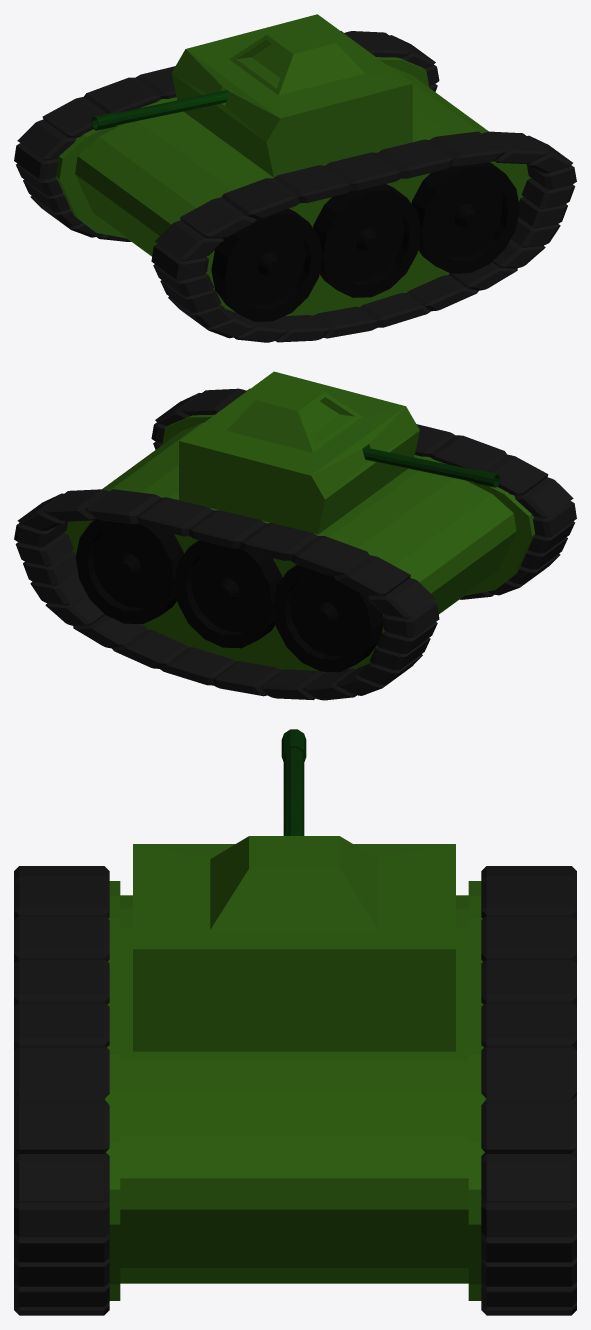
The model's file is tanque.fbx.
3 renders of one model, top to bottom at view 1: azimuth 30°, elevation 25°; view 2: azimuth 150°, elevation 25°; view 3: azimuth 270°, elevation 25°, orthographic. The views are drawn at different scales.
Parts seen in each view (by area): view 1: Cube, Cube.001, Cylinder, Cylinder.001; view 2: Cube, Cube.001, Cylinder, Cylinder.001; view 3: Cube, Cube.001, Cylinder.001.
Boxes of the visible parts, left/top/right/bottom form: Cube: left=55, top=14, right=530, bottom=315; Cube.001: left=14, top=31, right=576, bottom=342; Cylinder: left=211, top=162, right=519, bottom=321; Cylinder.001: left=91, top=90, right=229, bottom=130; Cube: left=64, top=371, right=535, bottom=672; Cube.001: left=14, top=388, right=576, bottom=700; Cylinder: left=75, top=519, right=383, bottom=672; Cylinder.001: left=362, top=447, right=500, bottom=487; Cube: left=105, top=836, right=485, bottom=1300; Cube.001: left=14, top=866, right=576, bottom=1315; Cylinder.001: left=281, top=729, right=306, bottom=835.
Bounding box in the file's own units: 586 × 322 × 419.
